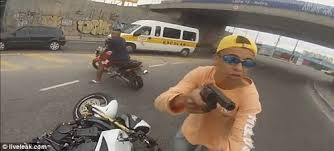gun: (195, 82, 245, 115)
motorcycle: (63, 93, 162, 151), (88, 46, 153, 92)
